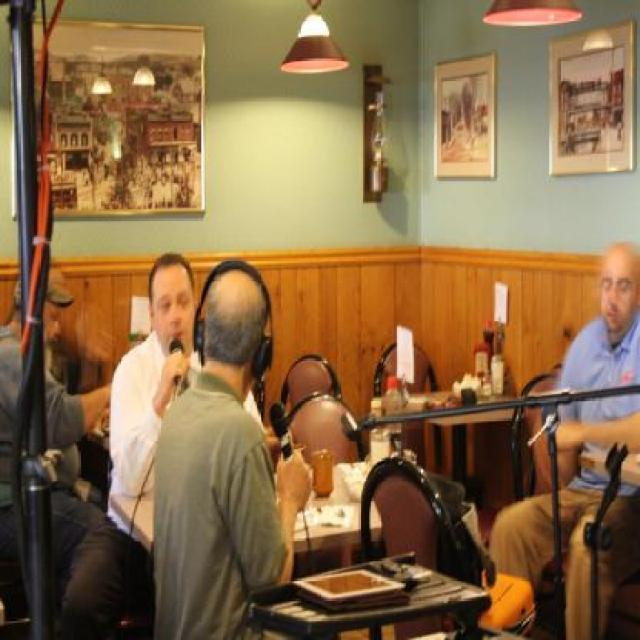earphone: (195, 245, 290, 373)
